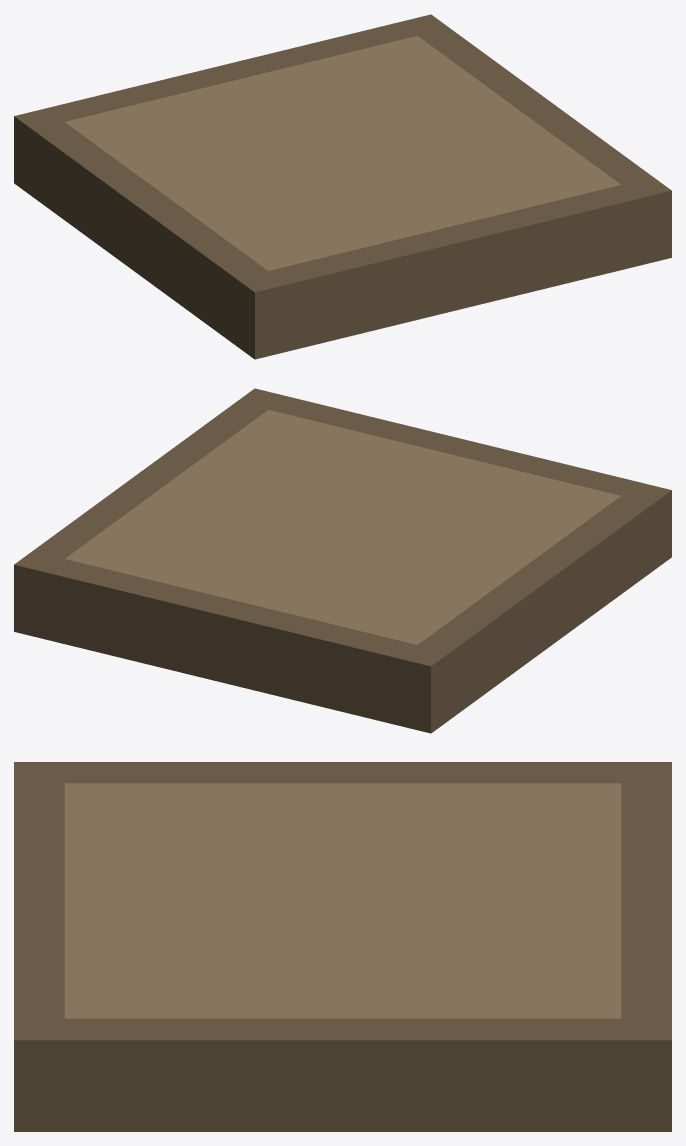
Rendered from alfombra_piel_oso_01.glb.
3 views of the same model, one above another, from view 1: azimuth 30°, elevation 25°; view 2: azimuth 150°, elevation 25°; view 3: azimuth 270°, elevation 25° (orthographic). The views are drawn at different scales.
Parts seen in each view (by area): view 1: alfombra_piel_oso; view 2: alfombra_piel_oso; view 3: alfombra_piel_oso.
Part boxes in pixels (x1,y1,x2,y2): alfombra_piel_oso: (14, 14, 671, 359); alfombra_piel_oso: (14, 388, 671, 733); alfombra_piel_oso: (14, 762, 671, 1131).
Bounding box in the file's own units: 1 × 0.1538 × 1.
